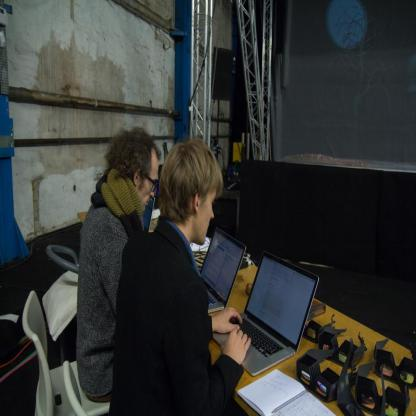board: (212, 249, 319, 375), (199, 228, 246, 314), (141, 196, 155, 232)
